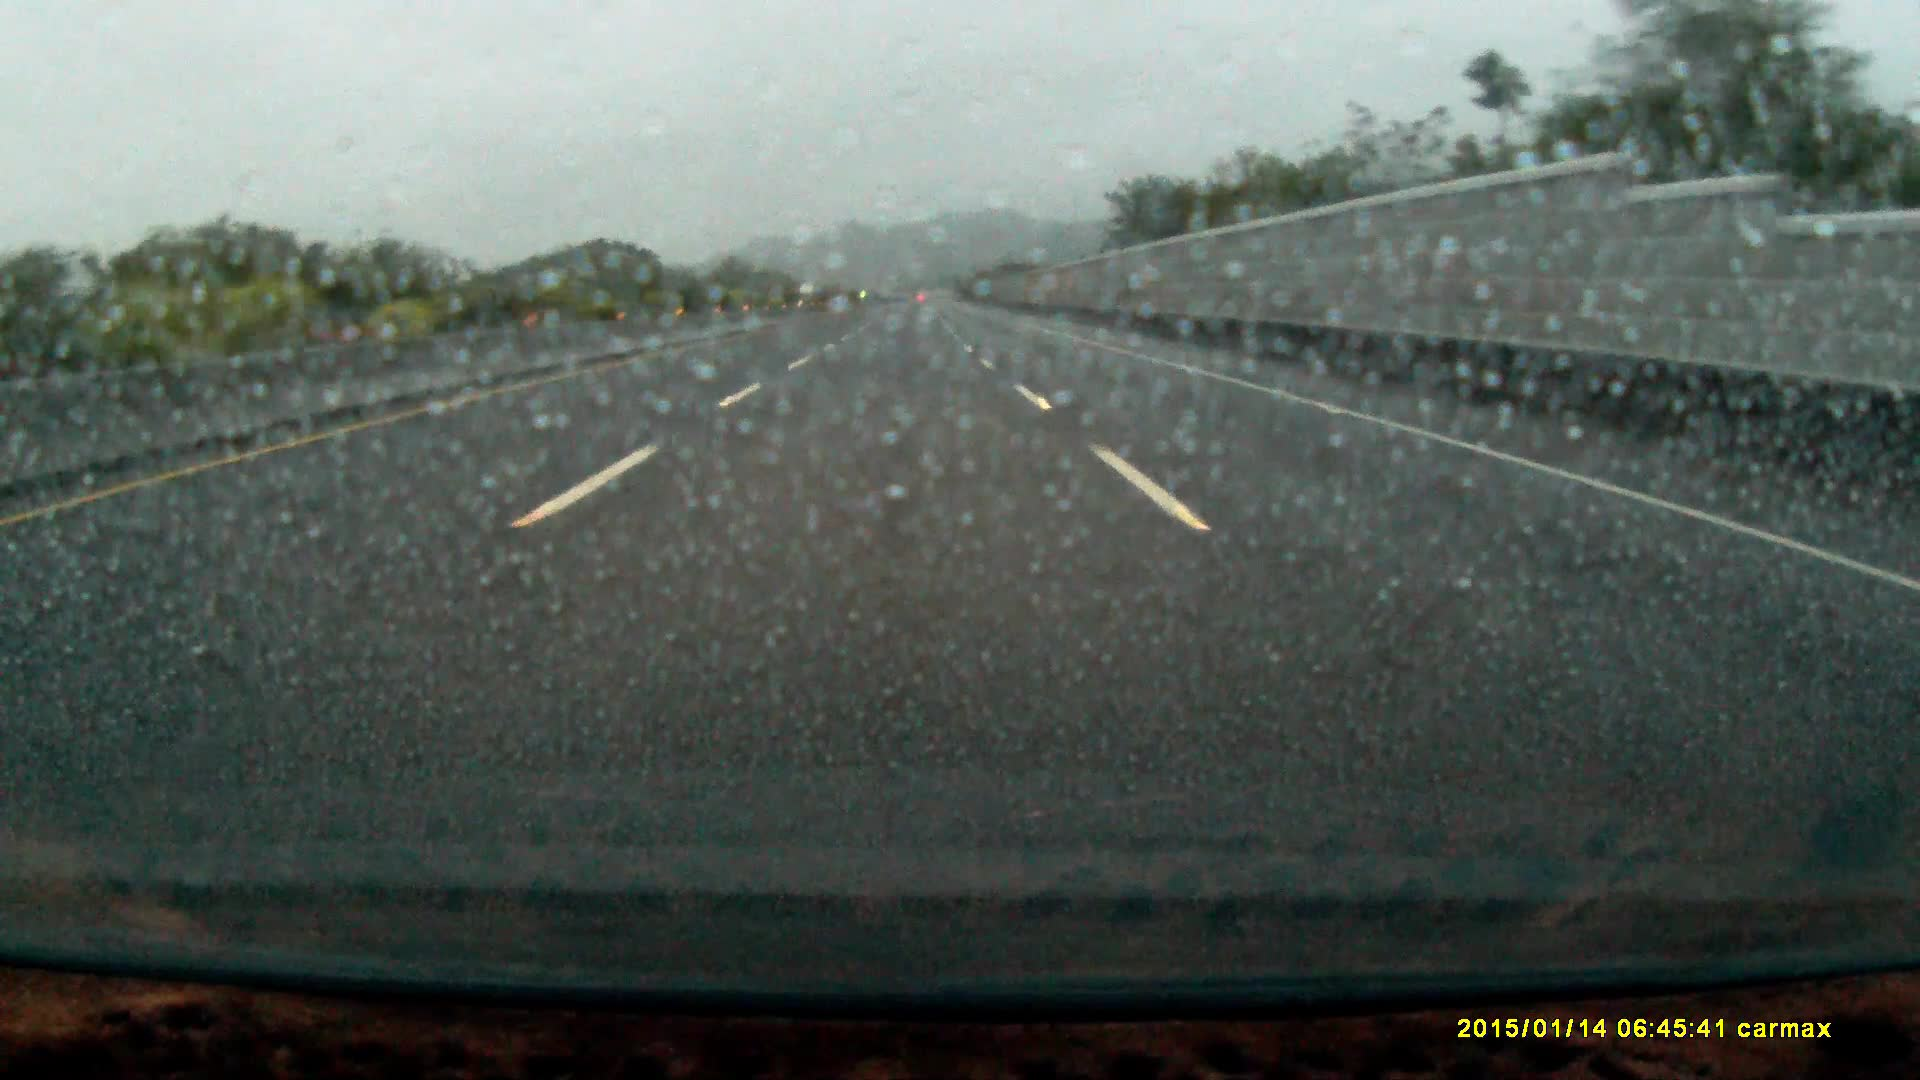vehicle: (796, 285, 822, 309)
